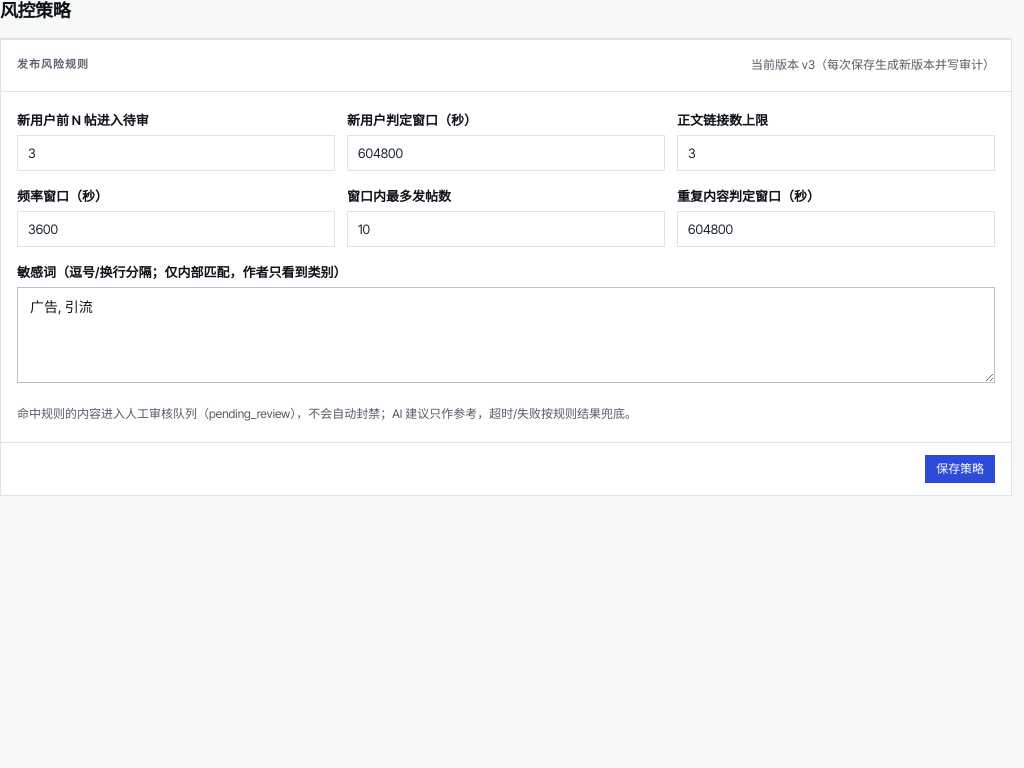
Test: Admin Risk Policy Page - Reason Dialog Modal › opens reason input modal when clicking save button
The width and height of the screenshot is (1024, 768).
Click "保存策略"
Click the button "保存策略" at (960, 469), box [925,455,995,483]
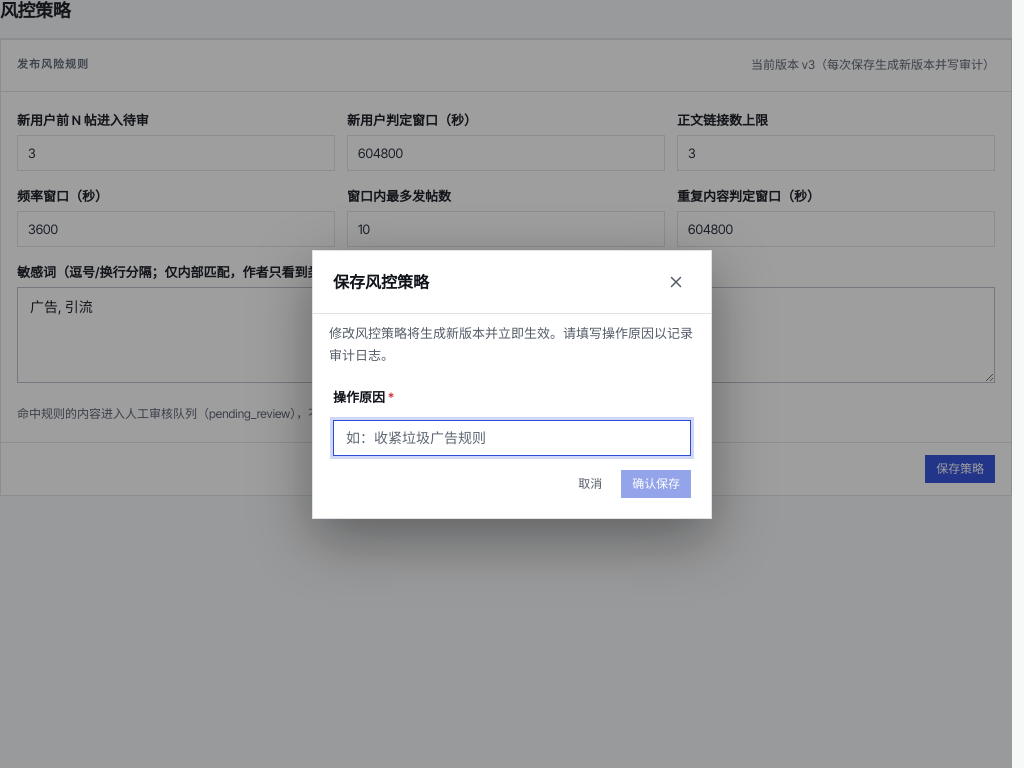
Result: the dialog with class "modal" is shown at [312,250,712,518]
Result: the dialog with class "modal" shows "保存风控策略" at [333,272,429,292]
Result: the dialog with class "modal" shows "操作原因" at [333,388,388,404]
Input reason
Type "更新防垃圾广告阈值" into the field with placeholder "如：收紧垃圾广告规则" at (512, 438), box [333,420,691,456]
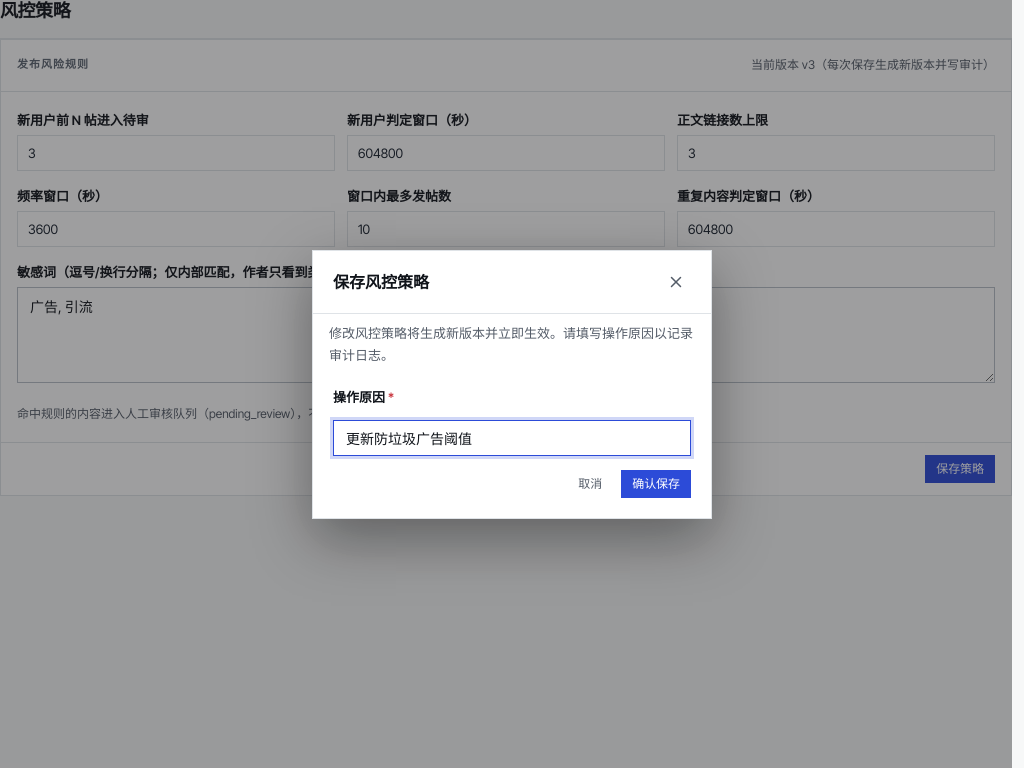
Result: the button "取消" is shown
Result: the button "确认保存" is enabled at [621,470,691,498]
Click the button "取消" at (590, 484), box [567,470,613,498]
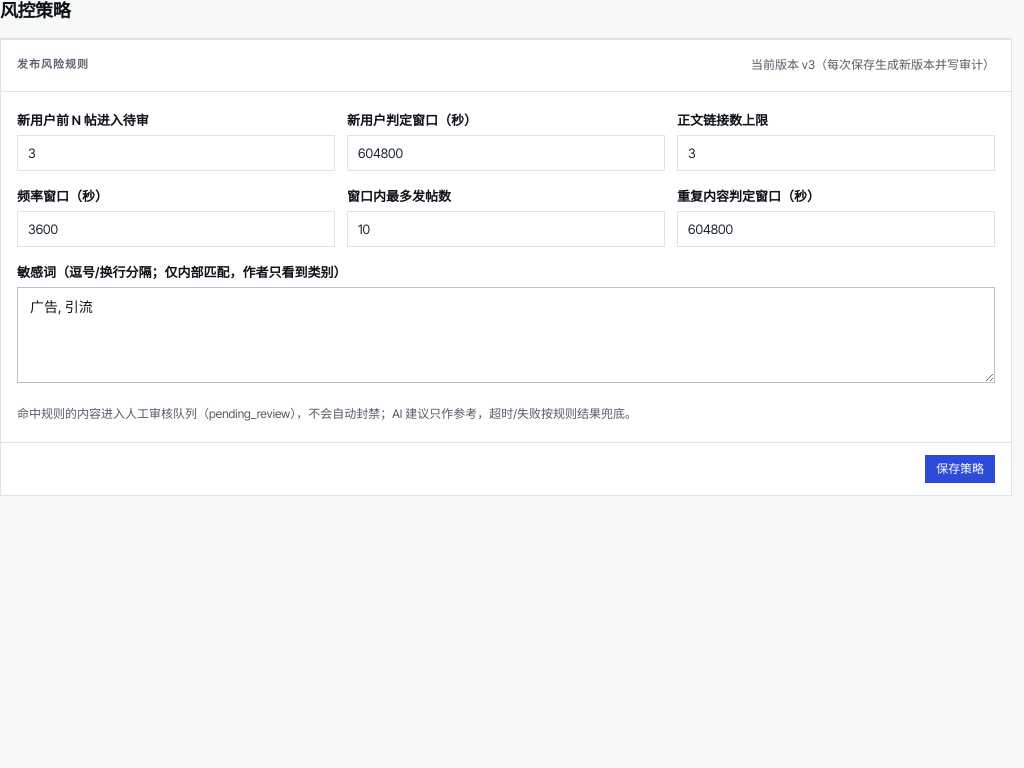
Result: the dialog with class "modal" is gone
